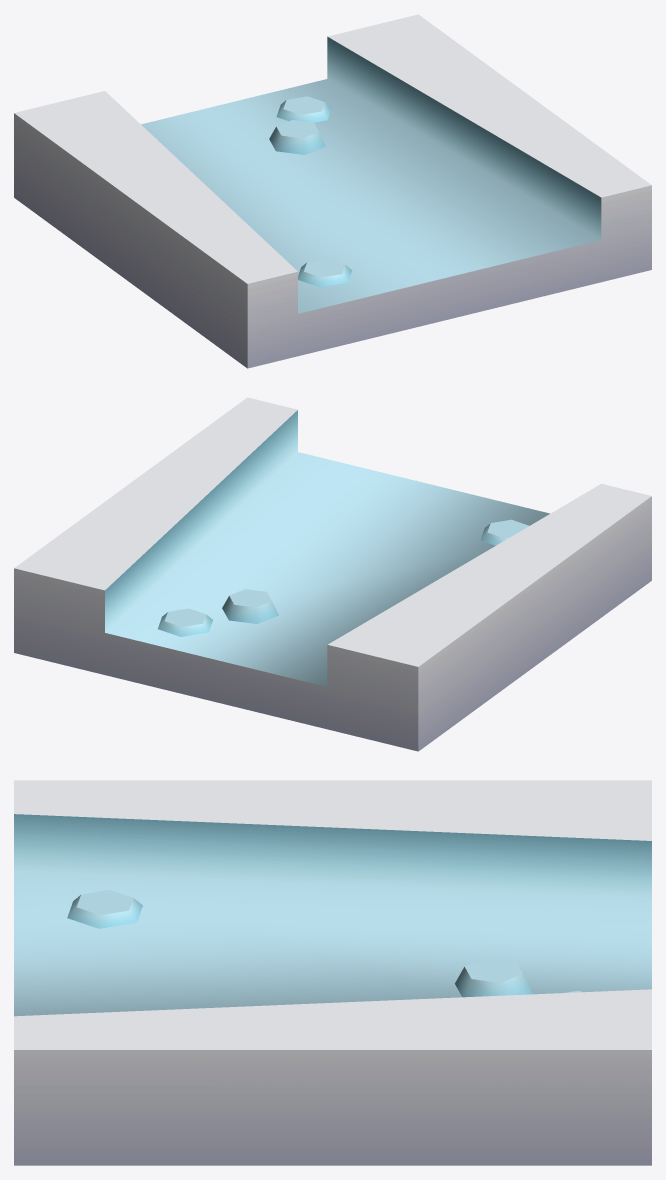
Rendered from kenney-tower-defense-snow-tile.glb.
The picture shows the model from 3 angles, top to bottom: view 1: azimuth 30°, elevation 25°; view 2: azimuth 150°, elevation 25°; view 3: azimuth 270°, elevation 25°; orthographic projection. The views are drawn at different scales.
Parts seen in each view (by area): view 1: snow-tile-transition; view 2: snow-tile-transition; view 3: snow-tile-transition.
Boxes of the visible parts, x1,y1,x2,y2 form: snow-tile-transition: (14, 14, 651, 368); snow-tile-transition: (14, 397, 651, 751); snow-tile-transition: (14, 780, 651, 1165).
Bounding box in the file's own units: 1 × 0.2 × 1.
1 material, 1 textured.
